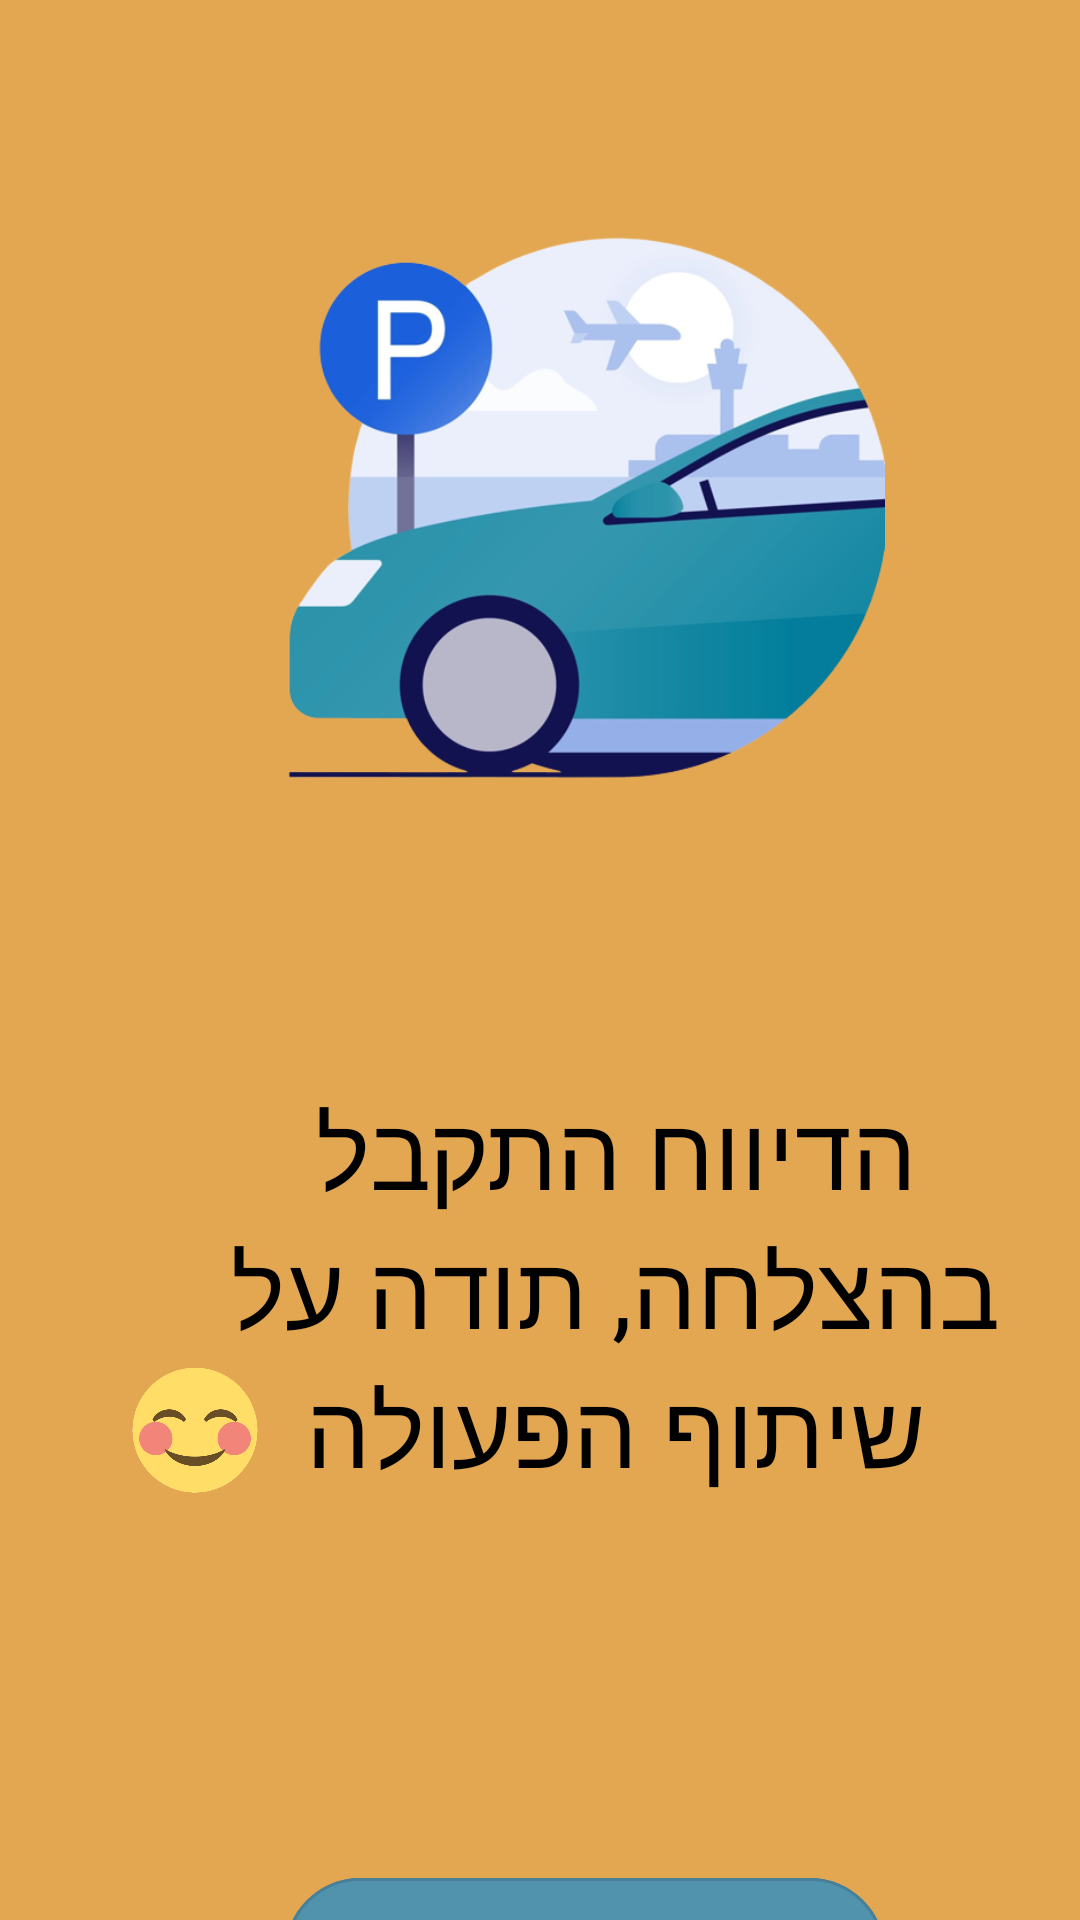

Named icons in this screenshot (1080×1920) and their bounding boxes, (x1, y1, x2, y2):
smileyicon: (132, 1368, 258, 1493)
